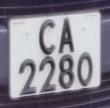0: (75, 51, 96, 91)
2: (16, 53, 39, 99), (38, 55, 58, 94)
8: (57, 52, 76, 93)
A: (57, 14, 77, 58)
C: (36, 16, 59, 56)
